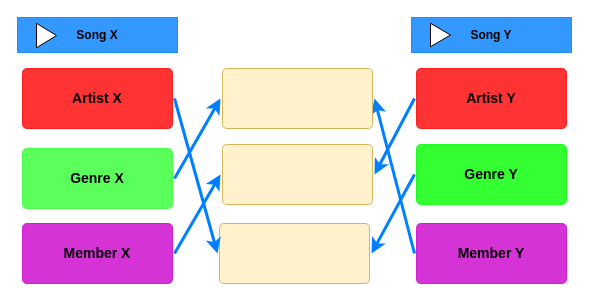
This 589x301 diagram has some shape labels left out. Here are the shapes that lost their labels. From the top down, the centre of each, then its label:
the point at 297,98: Property 1
the point at 297,174: Property 2
the point at 294,253: Property 3
